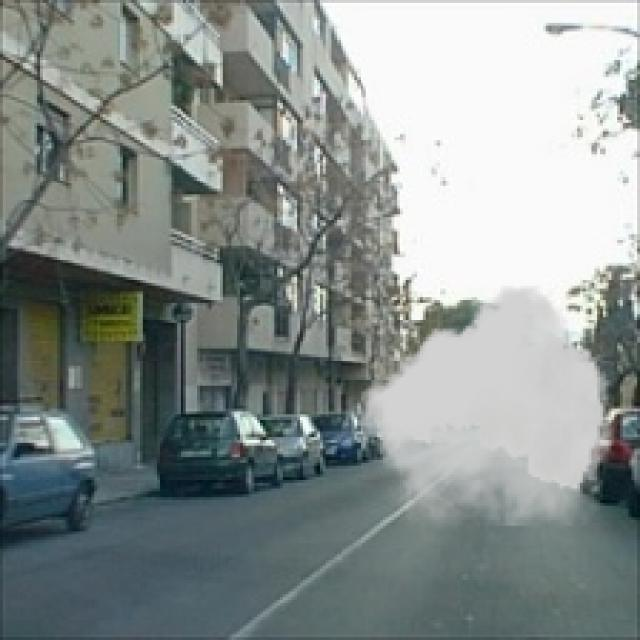smoke: (360, 286, 614, 526)
